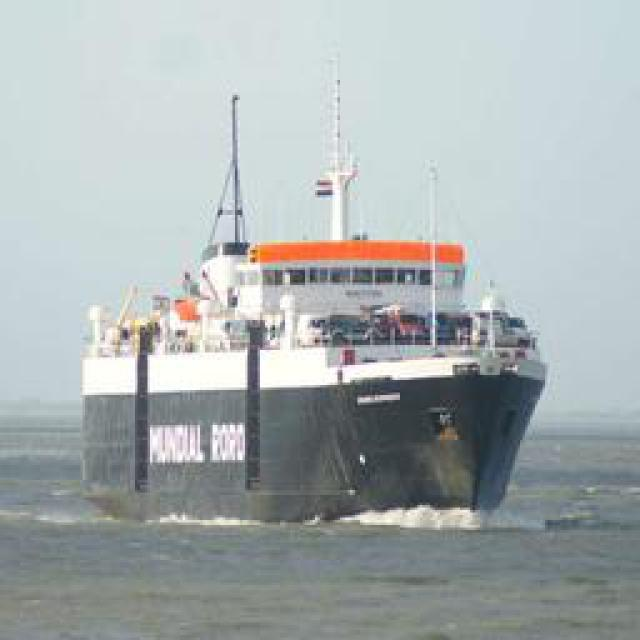Ship: (65, 87, 555, 515)
